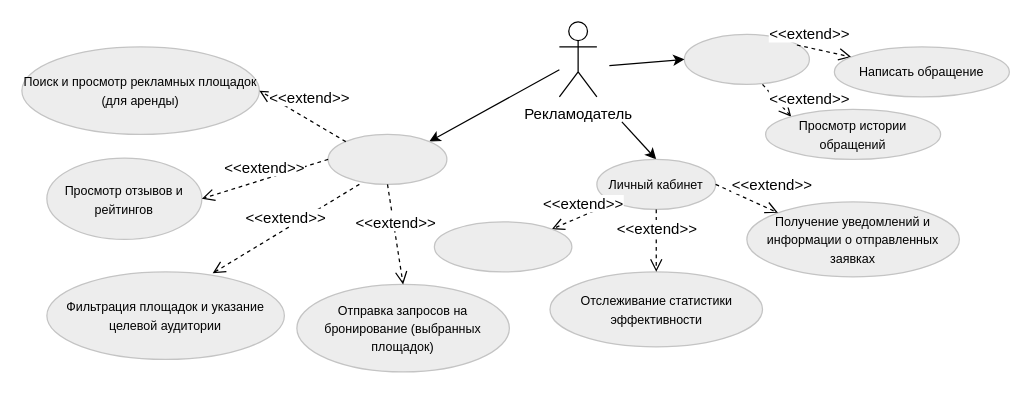
Some shapes in this 1031 by 394 pixel diagram are drawn without their labels. Each missing label, with the centre of its shape:
Каталог: the point at 387,158
Оставить отзыв о площадке: the point at 502,246
Техподдержка: the point at 746,58
